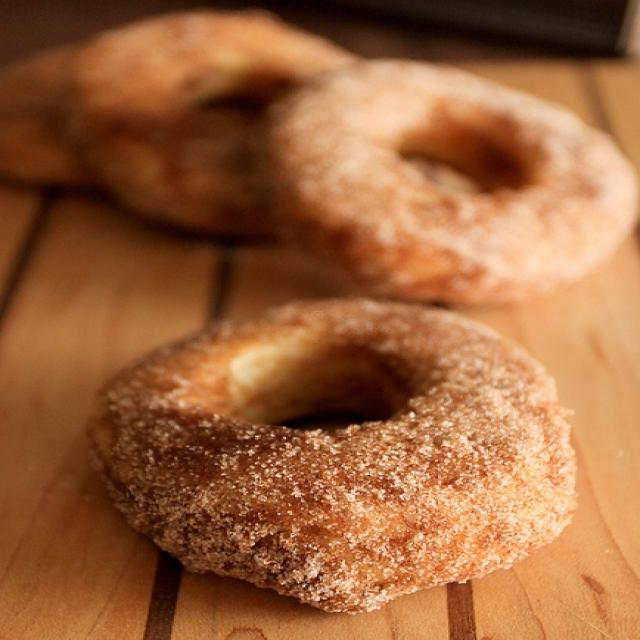炸货点心: (3, 5, 636, 621)
